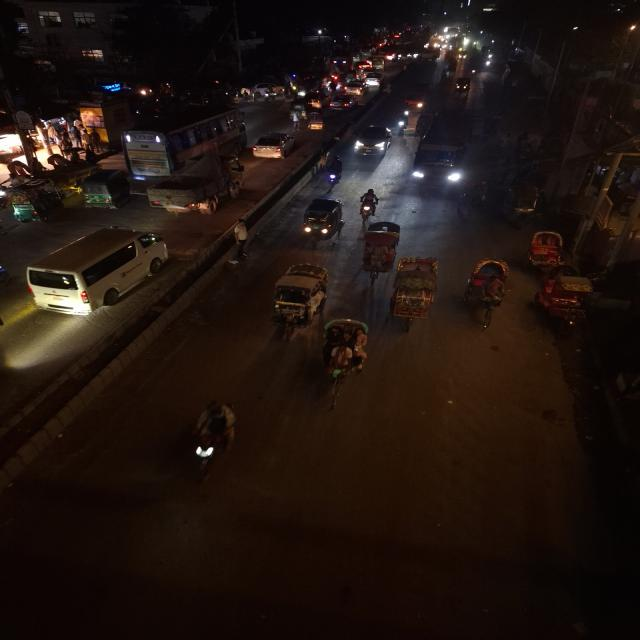bus: (120, 104, 247, 178), (408, 107, 474, 196)
car: (22, 224, 172, 318), (352, 122, 393, 158), (251, 131, 298, 161), (326, 93, 361, 111), (342, 81, 368, 95), (364, 73, 384, 87)
cng: (187, 394, 241, 484), (298, 195, 345, 249), (77, 169, 130, 211), (303, 110, 326, 134), (452, 76, 472, 96)
motorcycle: (358, 185, 380, 221), (324, 155, 344, 189), (0, 245, 11, 295), (395, 109, 410, 135)
pedestrian: (228, 218, 252, 258)
pickup_van: (401, 90, 428, 113)
rickshaw: (263, 261, 330, 343), (319, 317, 372, 402), (389, 254, 442, 333), (536, 263, 596, 331), (461, 256, 509, 331), (357, 219, 402, 282), (3, 184, 64, 224), (523, 228, 570, 272), (502, 179, 545, 227), (286, 105, 306, 125)
truck: (144, 166, 243, 218)
